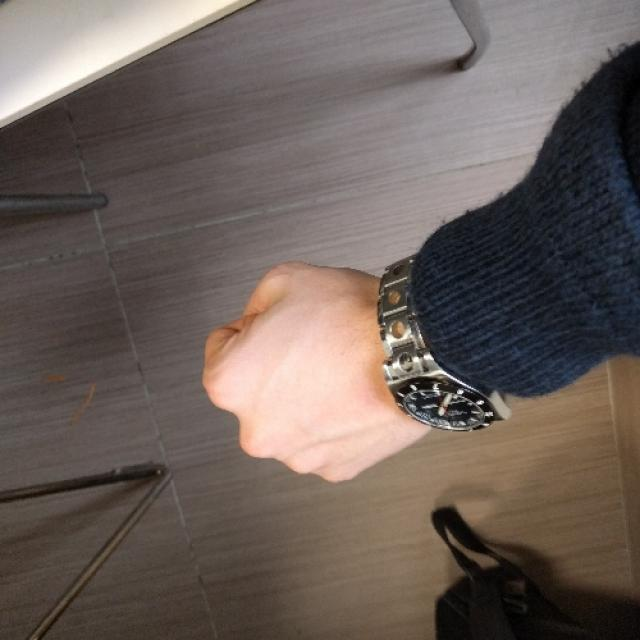rock: (204, 262, 411, 483)
